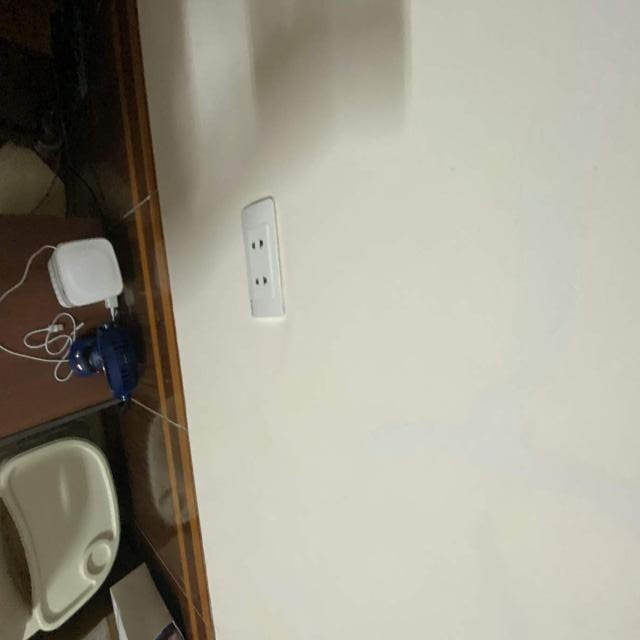outlet: (242, 196, 286, 319)
